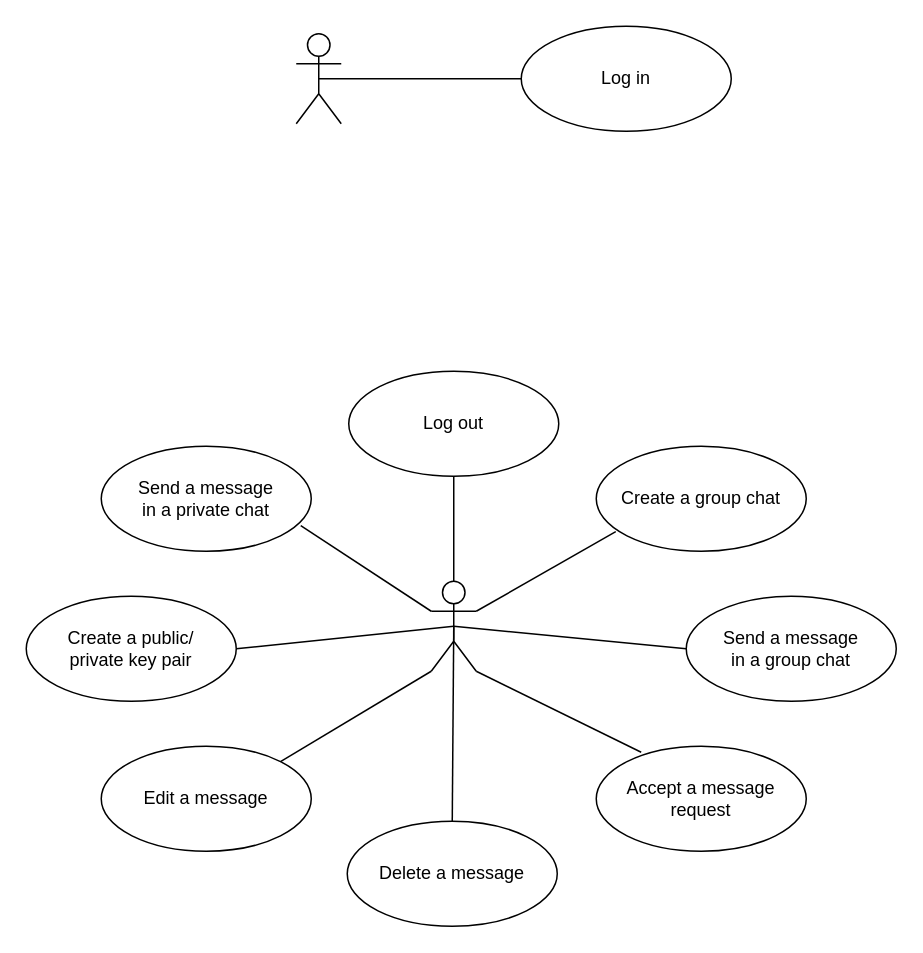
Some shapes in this 923 by 953 pixel diagram are drawn without their labels. The shapes that lost their labels are listed below. From the top down, each one's box as (x1, y1, x2, y2) in pixels, then its label:
(295, 32, 341, 124): UNCLOGGED USER
(430, 580, 476, 671): Logged user
